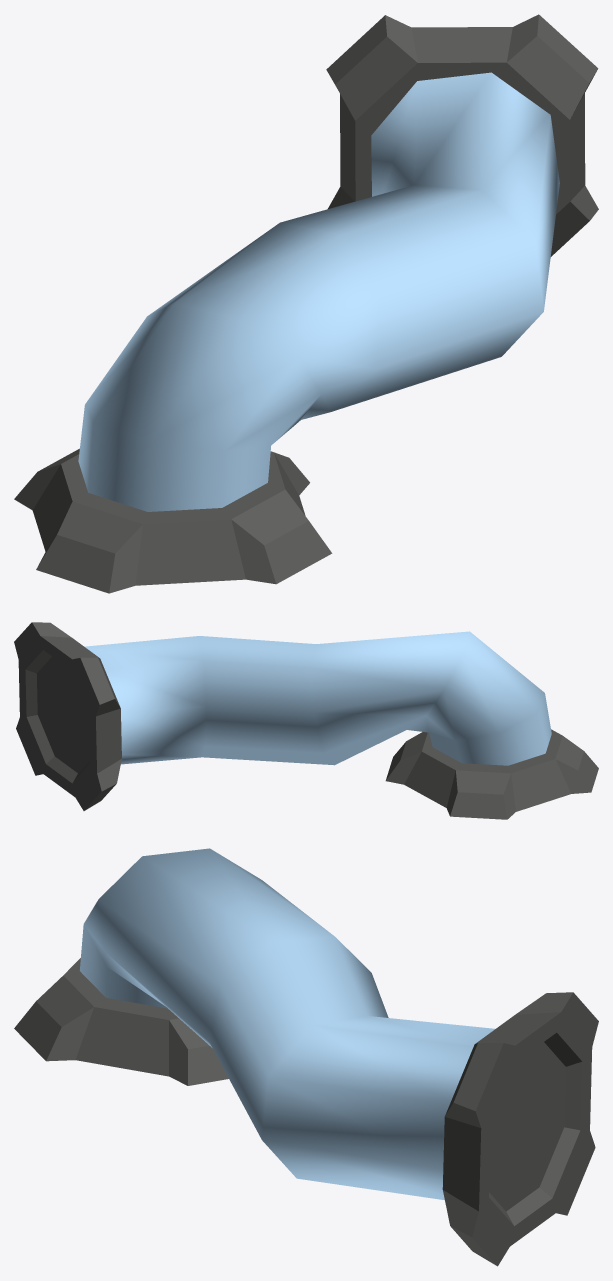
The model's file is Hangar_hose_03.fbx.
3 views of the same model, one above another, from view 1: azimuth 30°, elevation 25°; view 2: azimuth 150°, elevation 25°; view 3: azimuth 270°, elevation 25° (orthographic). The views are drawn at different scales.
Parts seen in each view (by area): view 1: Hose_03; view 2: Hose_03; view 3: Hose_03.
Part boxes in pixels (x1,y1,x2,y2): Hose_03: (14,14,598,593); Hose_03: (14,622,598,819); Hose_03: (14,848,598,1266).
Size of the model in its own units: 89.59 by 28.54 by 67.26.
